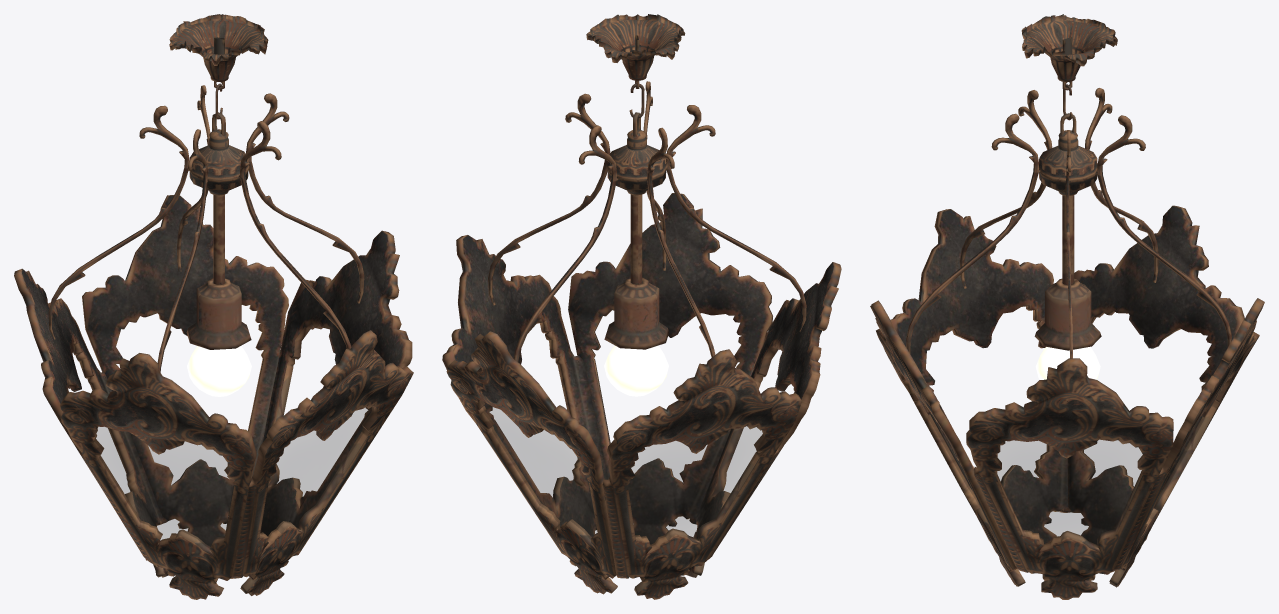
The model's file is lampara-techo.glb.
The picture shows the model from 3 angles, left to right: view 1: azimuth 30°, elevation 25°; view 2: azimuth 150°, elevation 25°; view 3: azimuth 270°, elevation 25°; orthographic projection.
Parts seen in each view (by area): view 1: lantern_chandelier_01; view 2: lantern_chandelier_01; view 3: lantern_chandelier_01.
Part boxes in pixels (<box>): lantern_chandelier_01: <box>14,14,413,599</box>; lantern_chandelier_01: <box>442,14,841,599</box>; lantern_chandelier_01: <box>870,14,1264,599</box>.
Bounding box in the file's own units: 0.5792 × 0.8776 × 0.5746.
Materials: 3 (2 with a texture image).
